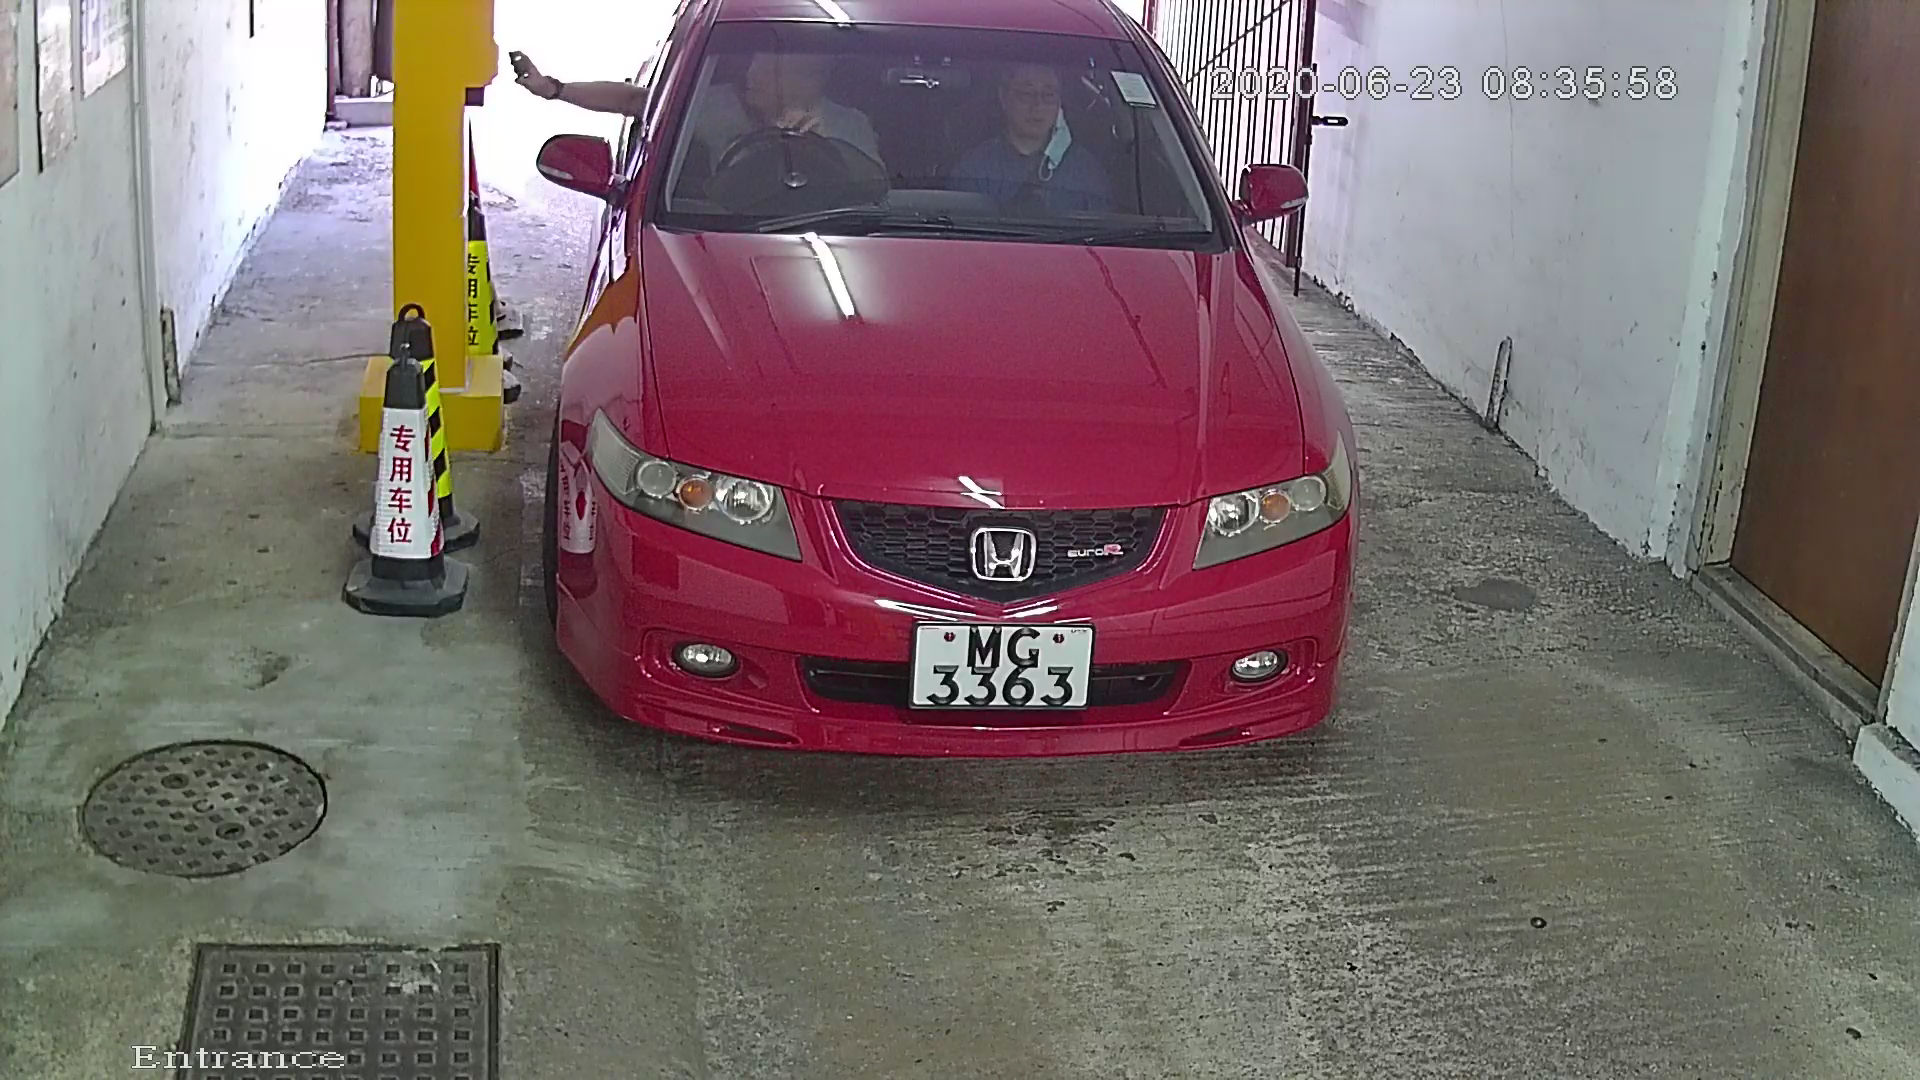privatecar: (512, 3, 1403, 779)
